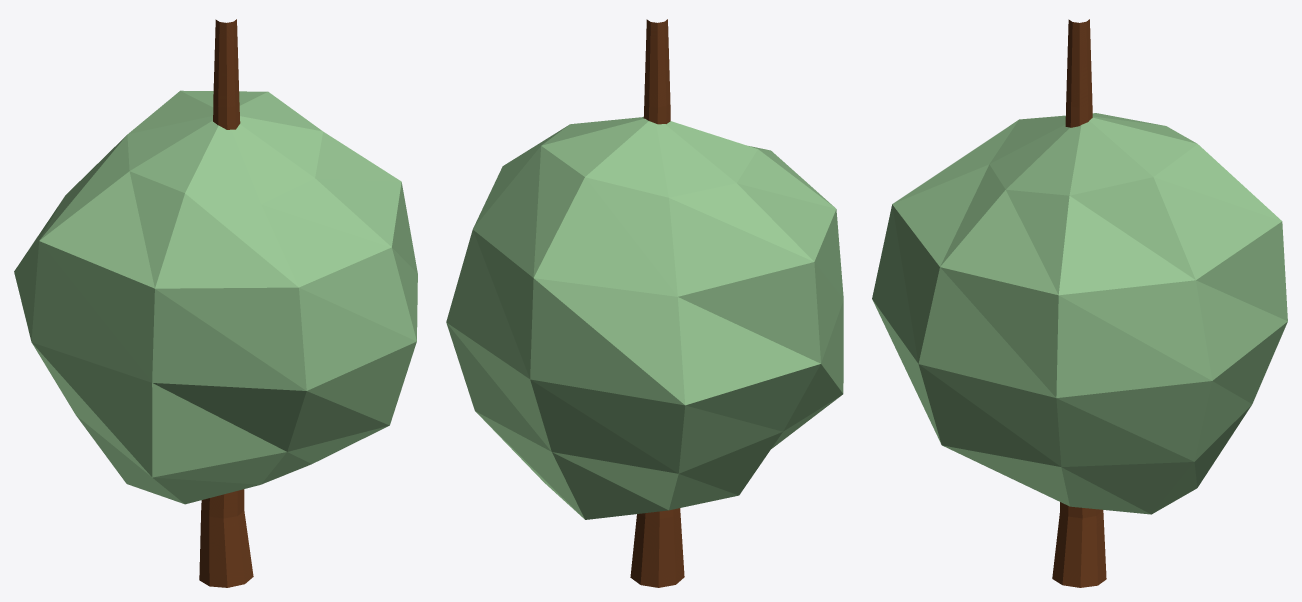
The model's file is nature_oak_sapling.glb.
3 views of the same model, side by side, from view 1: azimuth 30°, elevation 25°; view 2: azimuth 150°, elevation 25°; view 3: azimuth 270°, elevation 25° (orthographic).
Parts seen in each view (by area): view 1: world; view 2: world; view 3: world.
Part boxes in pixels (left/top/right/bottom): world: left=14, top=19, right=417, bottom=587; world: left=446, top=19, right=843, bottom=587; world: left=872, top=19, right=1287, bottom=587.
Size of the model in its own units: 1.35 by 2 by 1.35.
Materials: 3 (1 with a texture image).
